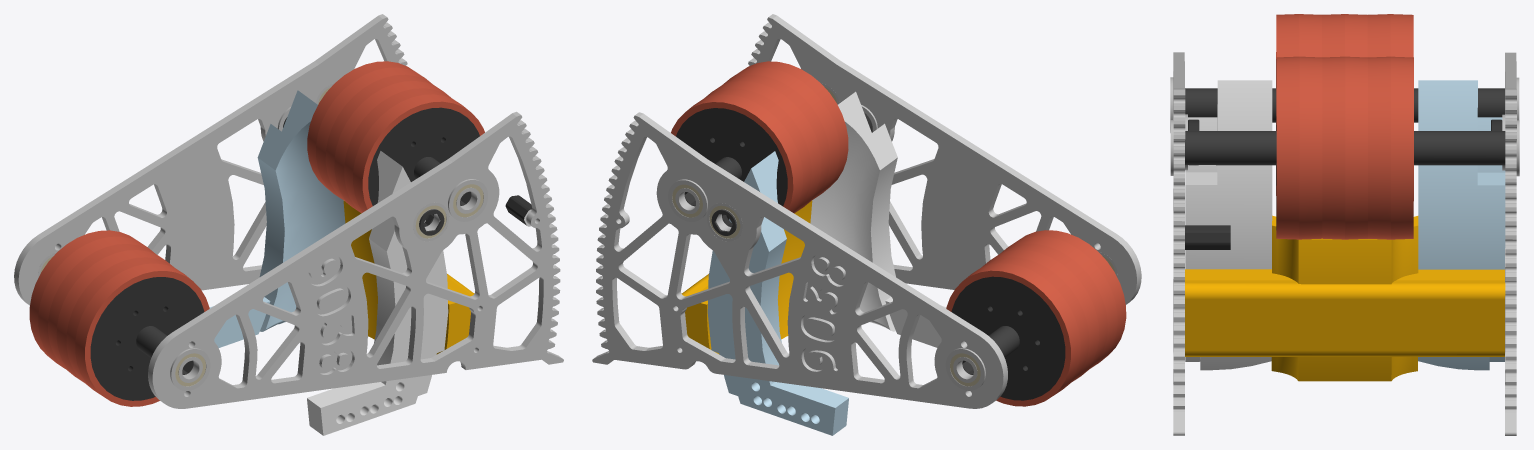
The picture shows the model from 3 angles, left to right: view 1: azimuth 30°, elevation 25°; view 2: azimuth 150°, elevation 25°; view 3: azimuth 270°, elevation 25°; orthographic projection. The views are drawn at different scales.
Visible parts, largest first — view 1: mirror plate, 4" Stealth Wheel (40A, 1/2" Hex Bore) (×6), rotating plate, right hood, left hood, 1/2" Rounded Hex (13.75mm) ID Bearing (1.125" OD, 0.313" WD, (×3), middle hood, 1/2" Hex Bore Custom Spacer (0.75" OD,2" L); view 2: rotating plate, 4" Stealth Wheel (40A, 1/2" Hex Bore) (×6), mirror plate, left hood, right hood, 1/2" Rounded Hex (13.75mm) ID Bearing (1.125" OD, 0.313" WD, (×3), middle hood, 1/2" Hex Bore Custom Spacer (0.75" OD,2" L); view 3: middle hood, 4" Stealth Wheel (40A, 1/2" Hex Bore) (×6), left hood, right hood, 1/2" Hex Bore Custom Spacer (0.75" OD,2" L) (×4), mirror plate, rotating plate, 1/2" Rounded Hex (1" L, 13.75mm OD).
Boxes of the visible parts, x1=… form: mirror plate: x1=148, y1=111, x2=563, y2=408; 4" Stealth Wheel (40A, 1/2" Hex Bore) (×6): x1=29, y1=61, x2=484, y2=406; rotating plate: x1=14, y1=14, x2=407, y2=305; right hood: x1=307, y1=151, x2=448, y2=435; left hood: x1=209, y1=90, x2=345, y2=347; 1/2" Rounded Hex (13.75mm) ID Bearing (1.125" OD, 0.313" WD, (×3): x1=170, y1=179, x2=487, y2=390; middle hood: x1=343, y1=201, x2=474, y2=354; 1/2" Hex Bore Custom Spacer (0.75" OD,2" L): x1=136, y1=326, x2=193, y2=374; rotating plate: x1=592, y1=112, x2=1007, y2=408; 4" Stealth Wheel (40A, 1/2" Hex Bore) (×6): x1=671, y1=61, x2=1126, y2=406; mirror plate: x1=748, y1=14, x2=1141, y2=304; left hood: x1=707, y1=151, x2=848, y2=435; right hood: x1=810, y1=91, x2=946, y2=347; 1/2" Rounded Hex (13.75mm) ID Bearing (1.125" OD, 0.313" WD, (×3): x1=668, y1=179, x2=985, y2=390; middle hood: x1=681, y1=200, x2=812, y2=354; 1/2" Hex Bore Custom Spacer (0.75" OD,2" L): x1=962, y1=326, x2=1019, y2=374; middle hood: x1=1185, y1=215, x2=1505, y2=381; 4" Stealth Wheel (40A, 1/2" Hex Bore) (×6): x1=1276, y1=14, x2=1413, y2=239; left hood: x1=1418, y1=80, x2=1505, y2=370; right hood: x1=1185, y1=80, x2=1272, y2=370; 1/2" Hex Bore Custom Spacer (0.75" OD,2" L) (×4): x1=1185, y1=88, x2=1505, y2=165; mirror plate: x1=1173, y1=52, x2=1185, y2=435; rotating plate: x1=1505, y1=52, x2=1516, y2=435; 1/2" Rounded Hex (1" L, 13.75mm OD): x1=1185, y1=225, x2=1230, y2=249.
Size of the model in its own units: 0.3482 by 0.2107 by 0.1939.
